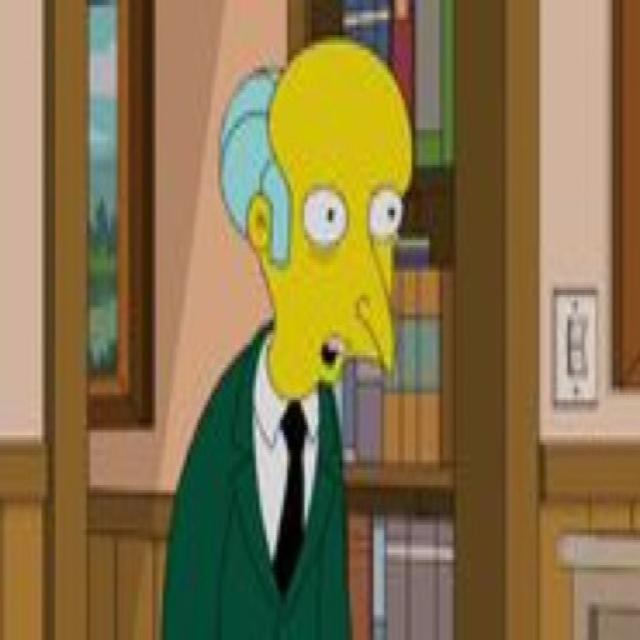Charles Montgomery Burns: (217, 34, 419, 406)
